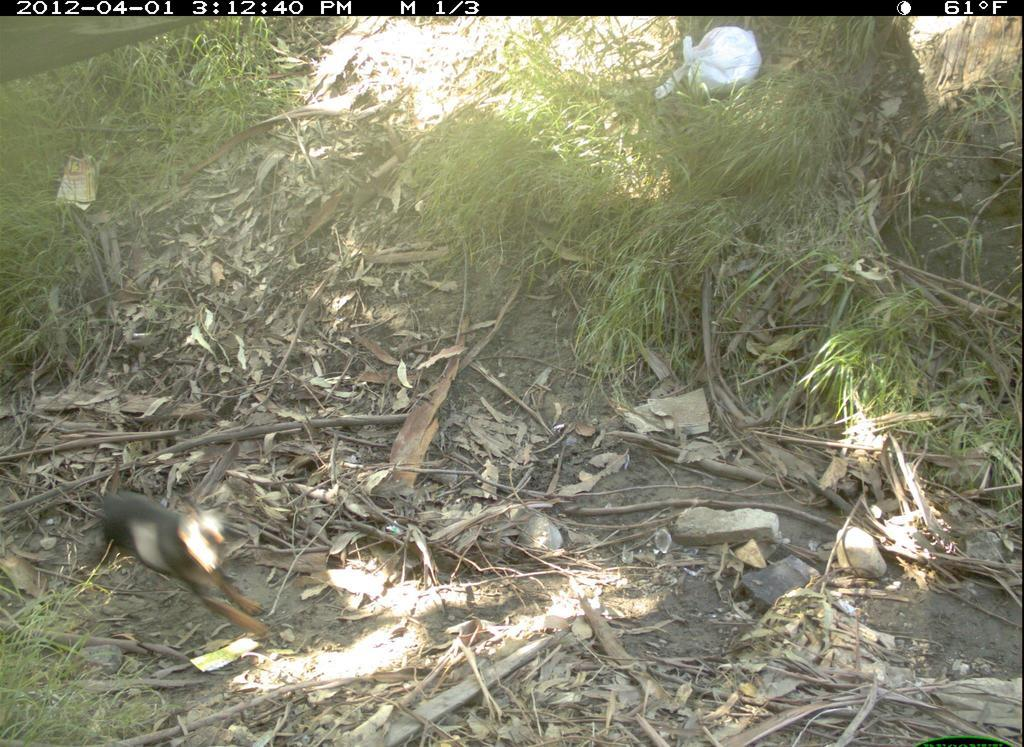dog: (70, 468, 290, 653)
